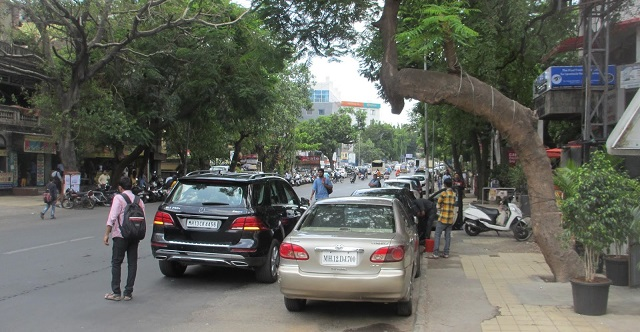bike: (462, 192, 527, 239), (60, 188, 96, 209)
car: (285, 199, 424, 314), (158, 171, 281, 279)
person: (105, 178, 146, 300), (434, 180, 452, 258), (309, 169, 333, 197), (42, 176, 56, 218)
plant: (562, 152, 639, 316)
tree: (391, 68, 537, 130), (54, 83, 83, 166)
tree branches: (75, 10, 230, 60)
